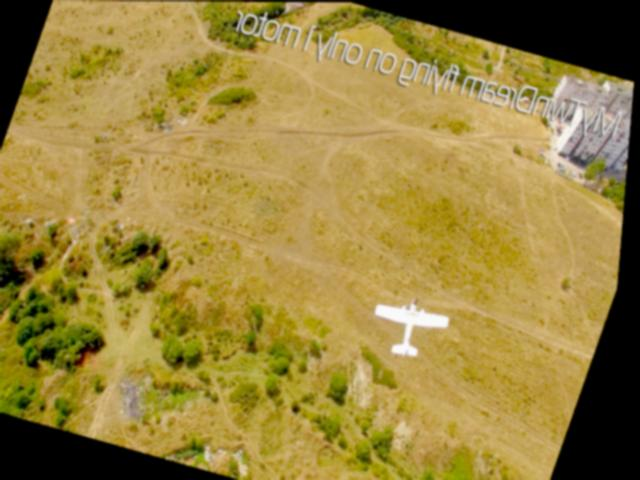plane: (366, 285, 464, 366)
